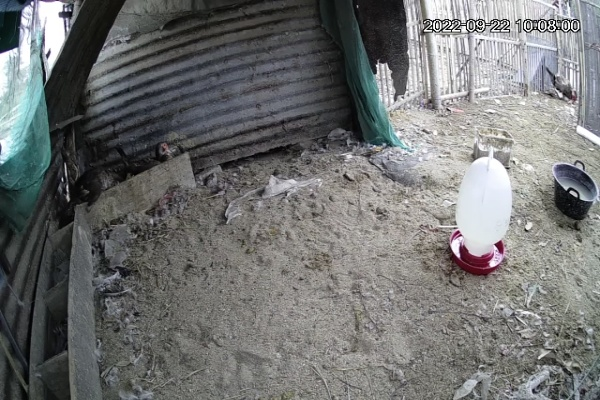Kawin: (533, 57, 583, 114)
